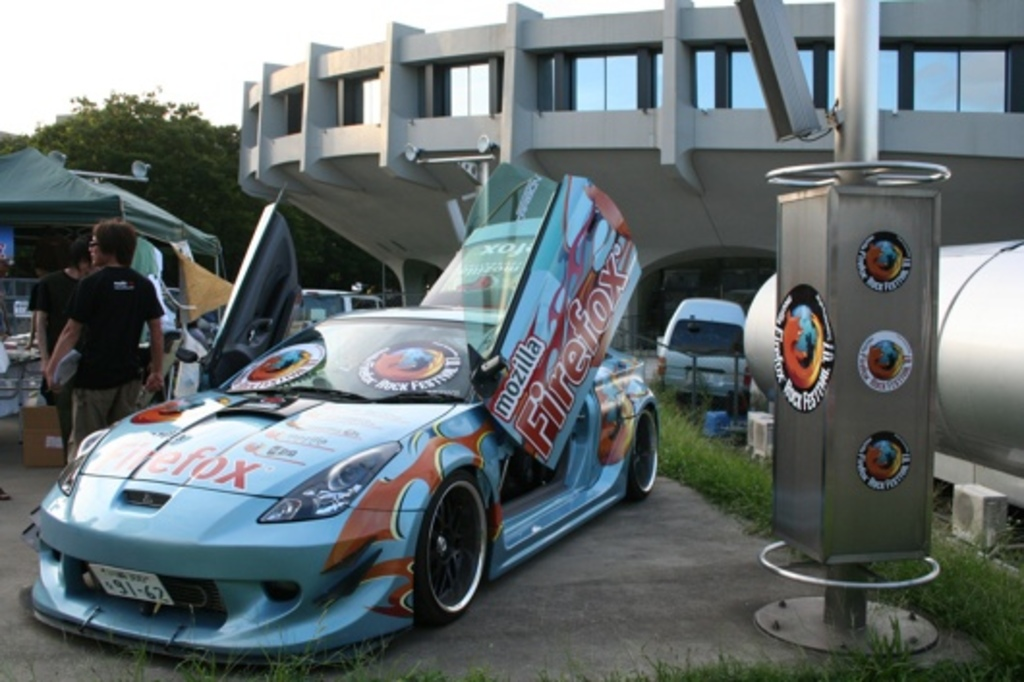Car: (25, 152, 666, 676)
